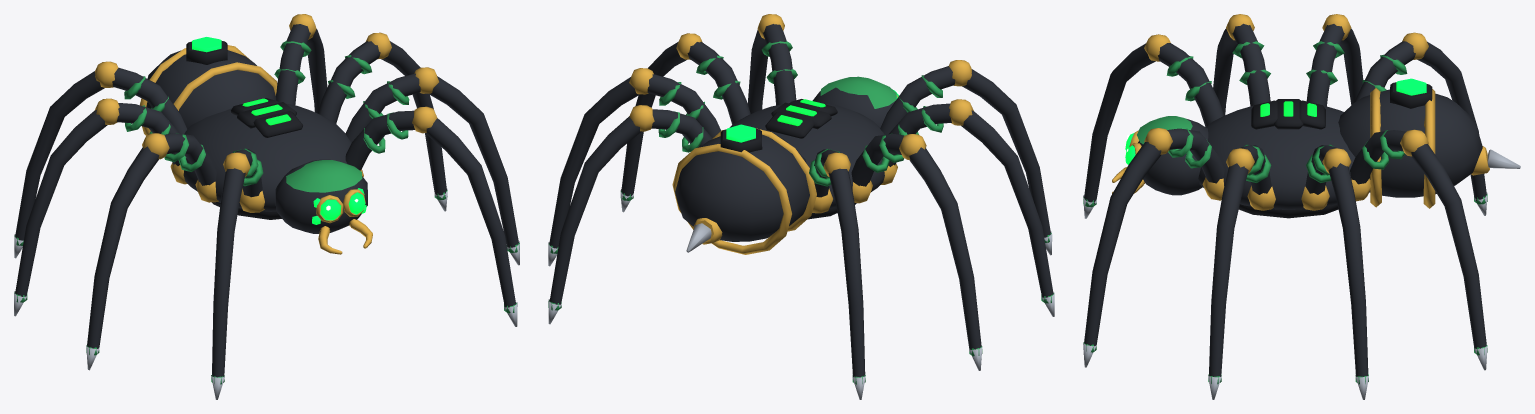
Rendered from npc_spider_drone.glb.
3 renders of one model, left to right at view 1: azimuth 30°, elevation 25°; view 2: azimuth 150°, elevation 25°; view 3: azimuth 270°, elevation 25°, orthographic.
Parts seen in each view (by area): view 1: Body, LegL2, Head, LegR1, LegR2, LegL3, LegL4, LegL1, LegR3, LegR4; view 2: Body, LegL3, LegL2, LegR4, LegR3, LegL1, LegL4, LegR2, LegR1, Head; view 3: Body, LegR1, LegR4, LegR3, LegR2, LegL1, LegL4, LegL2, LegL3, Head.
Part boxes in pixels (box(x1,y1,x2,y2)): Body: box(140, 37, 351, 219); LegL2: box(86, 133, 218, 370); Head: box(275, 159, 372, 254); LegR1: box(345, 106, 517, 326); LegR2: box(345, 67, 519, 265); LegL3: box(14, 98, 187, 316); LegL4: box(14, 61, 187, 258); LegL1: box(211, 148, 264, 399); LegR3: box(317, 32, 447, 211); LegR4: box(274, 14, 327, 113); Body: box(672, 99, 884, 254); LegL3: box(851, 133, 982, 370); LegL2: box(881, 99, 1054, 316); LegR4: box(548, 105, 712, 324); LegR3: box(548, 68, 721, 266); LegL1: box(880, 60, 1052, 255); LegL4: box(809, 148, 865, 399); LegR2: box(620, 33, 750, 212); LegR1: box(747, 14, 797, 113); Head: box(812, 76, 899, 127); Body: box(1198, 78, 1520, 218); LegR1: box(1083, 128, 1224, 367); LegR4: box(1350, 129, 1487, 370); LegR3: box(1301, 144, 1368, 399); LegR2: box(1208, 144, 1275, 399); LegL1: box(1083, 34, 1223, 218); LegL4: box(1354, 32, 1487, 215); LegL2: box(1213, 14, 1270, 115); LegL3: box(1306, 14, 1363, 106); Head: box(1112, 116, 1208, 195).
Size of the model in its own units: 1.05 by 0.4801 by 0.901.
